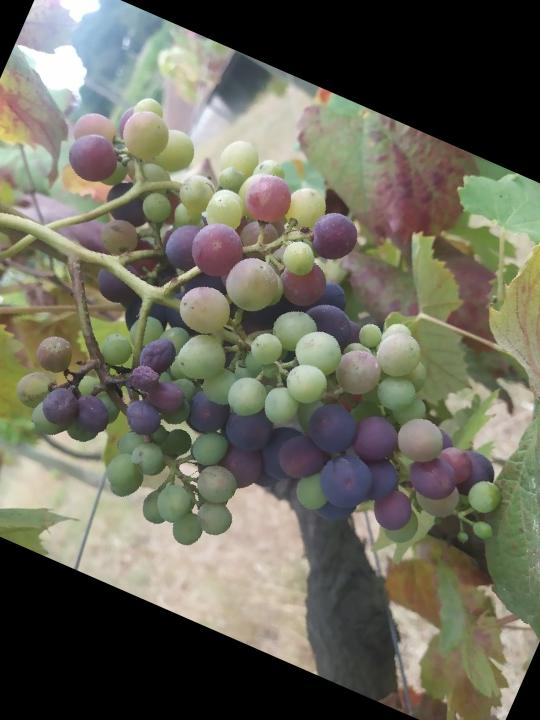grape: (0, 71, 540, 660)
